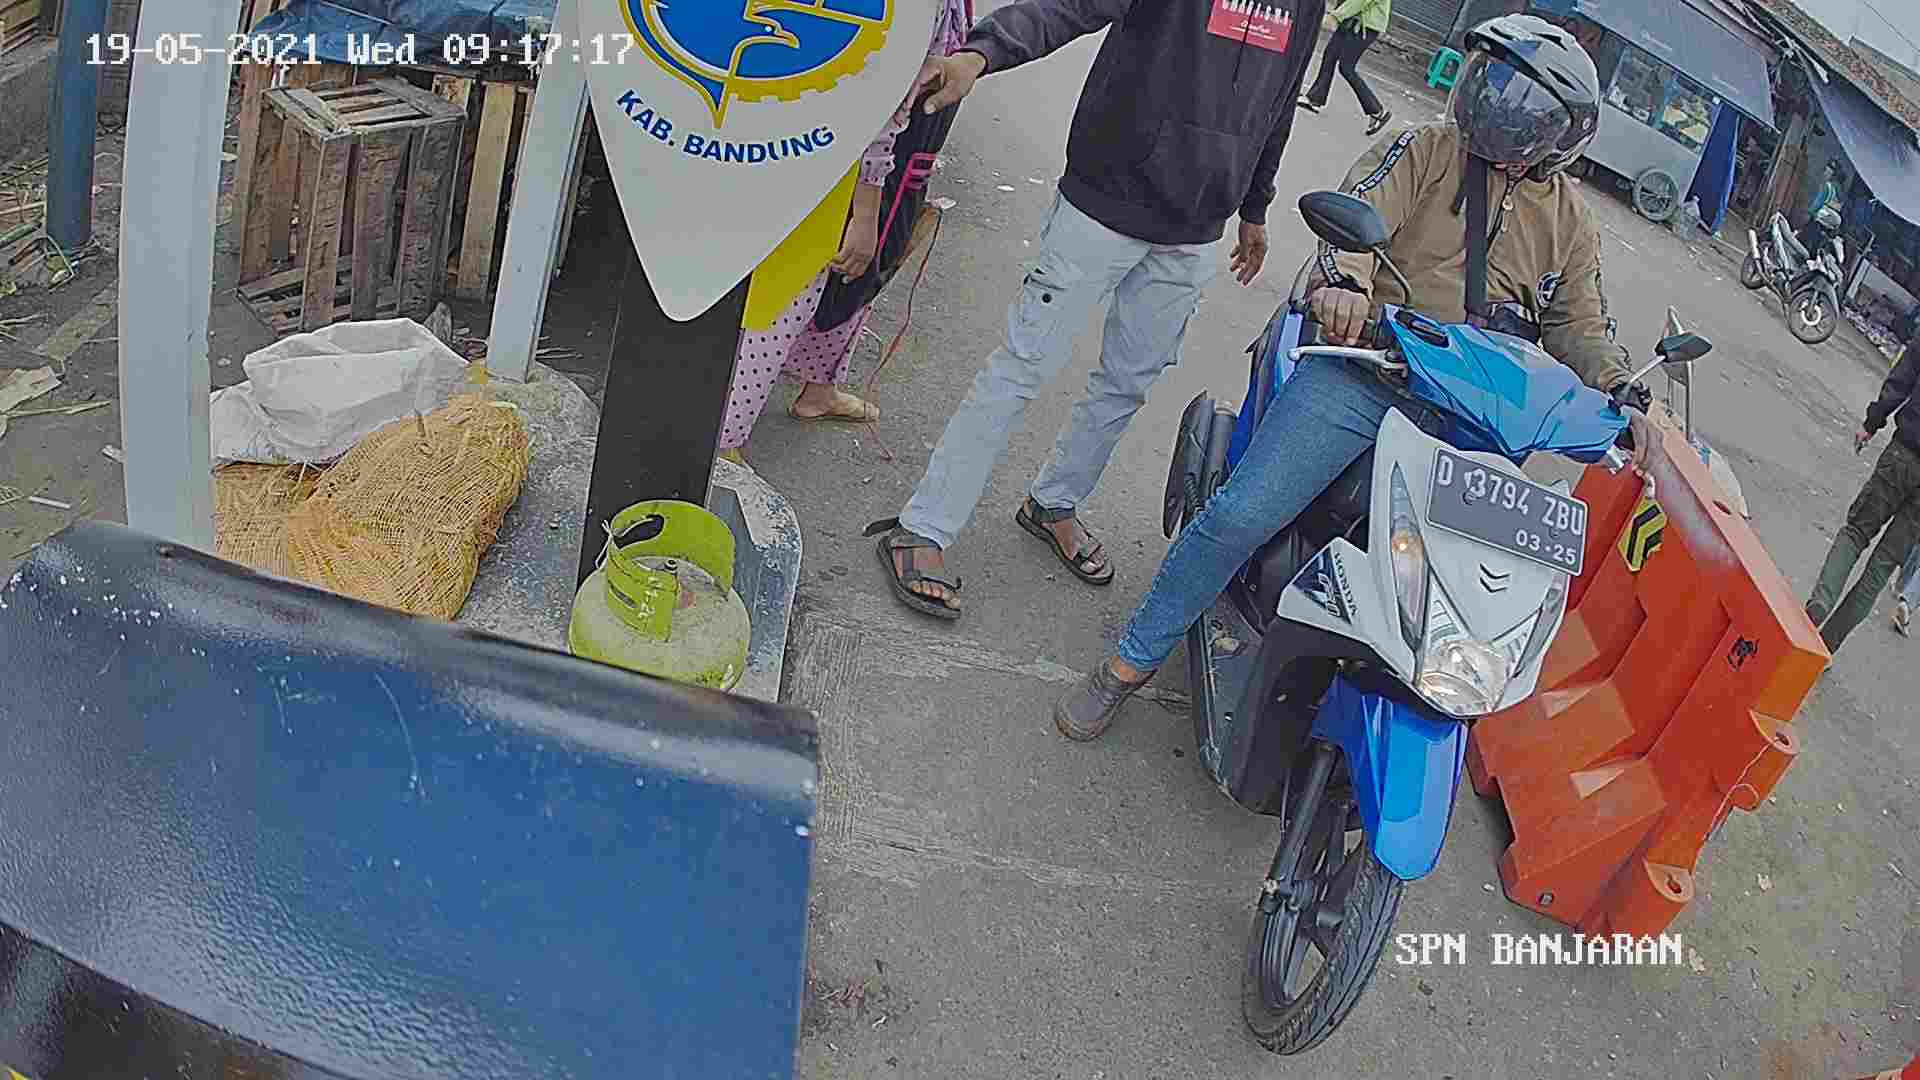motor: (1187, 274, 1597, 1080)
